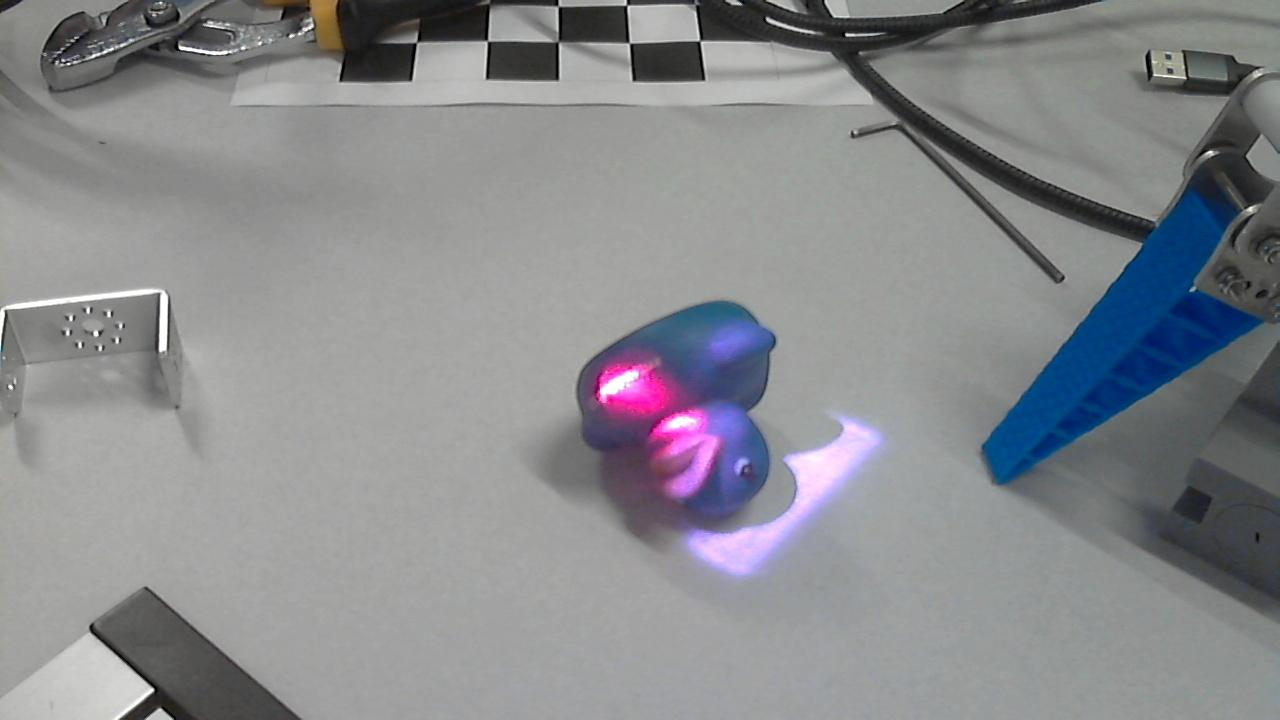Object rubber duck - Material rubber -Color blue - Pdfname BWuUnwTLudUE: (600, 343, 736, 495)
